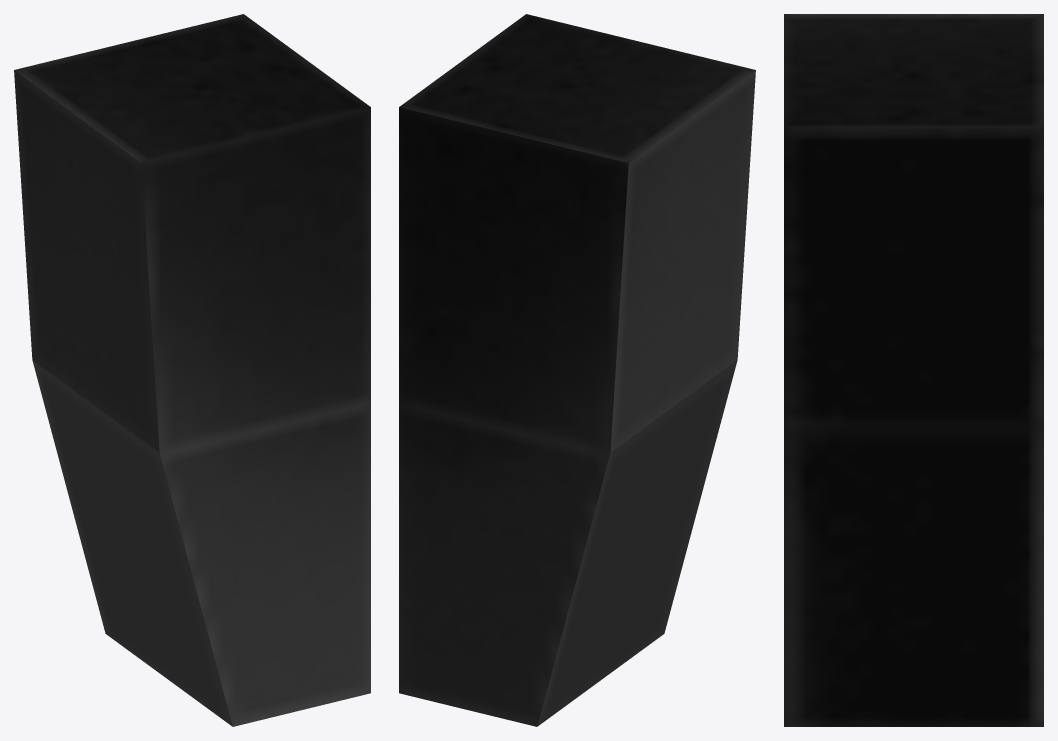
The model's file is claw_left.dae.
3 views of the same model, side by side, from view 1: azimuth 30°, elevation 25°; view 2: azimuth 150°, elevation 25°; view 3: azimuth 270°, elevation 25° (orthographic). The views are drawn at different scales.
Visible parts, largest first — view 1: root-base-bigarm-smallarm-knuckle-clawleft; view 2: root-base-bigarm-smallarm-knuckle-clawleft; view 3: root-base-bigarm-smallarm-knuckle-clawleft.
Part boxes in pixels (x1,y1,x2,y2): root-base-bigarm-smallarm-knuckle-clawleft: (14,14,370,726); root-base-bigarm-smallarm-knuckle-clawleft: (399,14,755,726); root-base-bigarm-smallarm-knuckle-clawleft: (784,14,1043,726).
Bounding box in the file's own units: 0.033 × 0.0317 × 0.0805.
